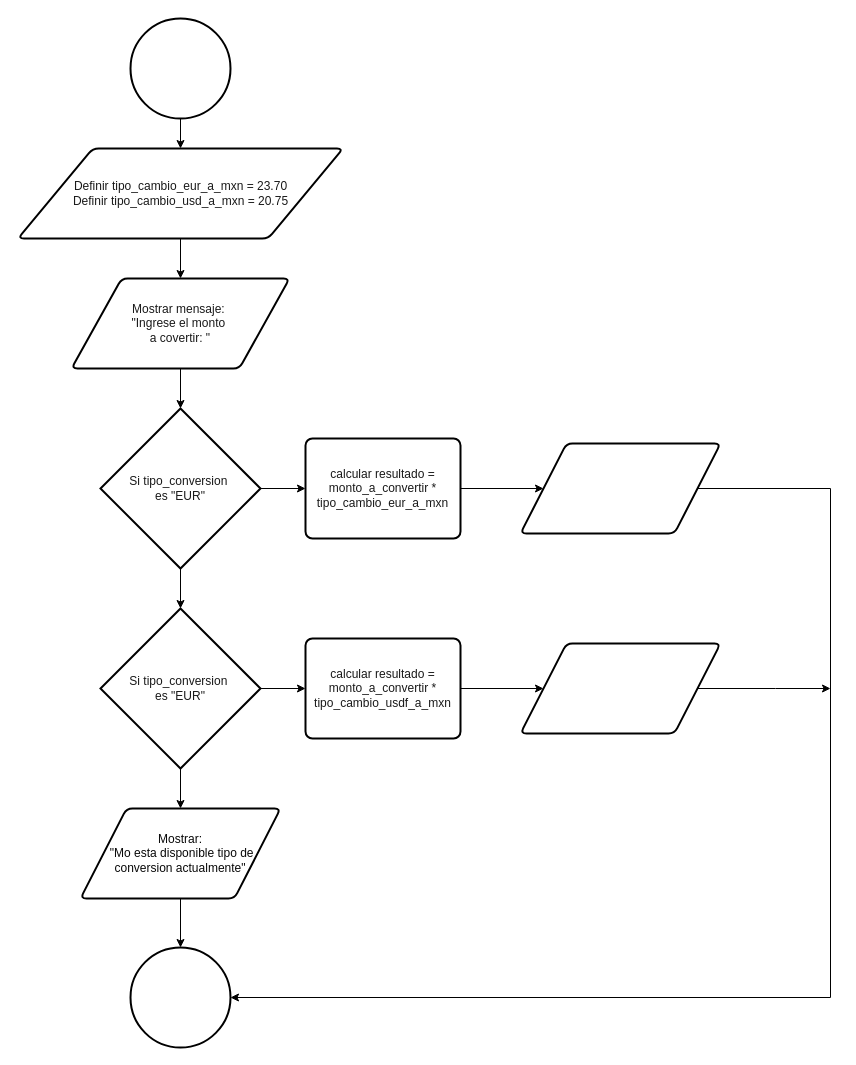
Some shapes in this 856 by 1065 pixel diagram are drawn without their labels. Each missing label, with the centre of its shape:
FIN: point 180,997
INICIO: point 180,68
Mostrar "El resultado de la conversion de EUR a MXN es: ", resultado: point 620,488
Mostrar "El resultado de la conversion de USD a MXN es: ", resultado: point 620,688
